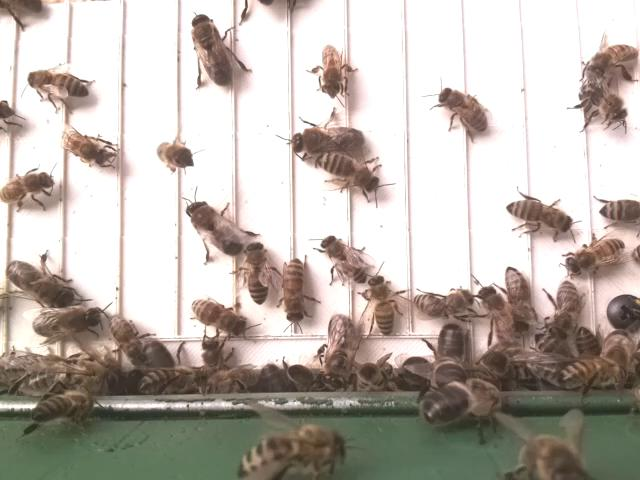Drone: (183, 198, 247, 258), (5, 256, 76, 310), (189, 10, 235, 86), (320, 311, 360, 391), (286, 124, 368, 155), (30, 306, 105, 339)
Worker: (434, 87, 492, 135), (505, 197, 576, 234), (320, 234, 369, 287), (317, 152, 381, 192), (566, 235, 628, 275), (187, 295, 246, 337), (478, 283, 516, 348), (107, 311, 148, 368), (504, 262, 536, 335), (26, 67, 91, 102), (411, 285, 474, 321), (548, 279, 584, 342), (366, 271, 398, 339), (278, 258, 309, 325), (0, 170, 54, 208), (242, 239, 272, 306), (584, 42, 640, 77), (57, 127, 111, 163), (318, 42, 345, 99)
